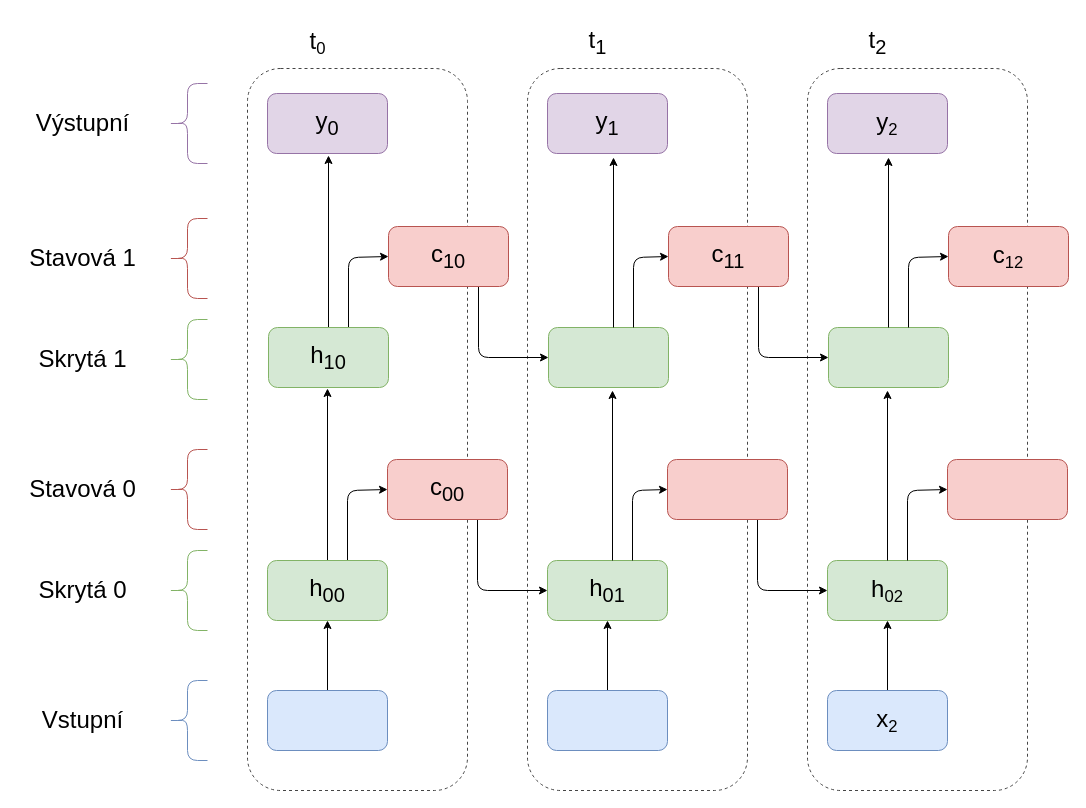
This 1086x808 diagram has some shape labels left out. The box of each missing label's shape, as (x1, y1, x2, y2) in pixels:
c 01: (666, 458, 788, 520)
c 02: (946, 458, 1068, 520)
h 11: (548, 326, 668, 388)
h 12: (828, 326, 948, 388)
x 0: (266, 690, 388, 750)
x 1: (546, 690, 668, 750)
